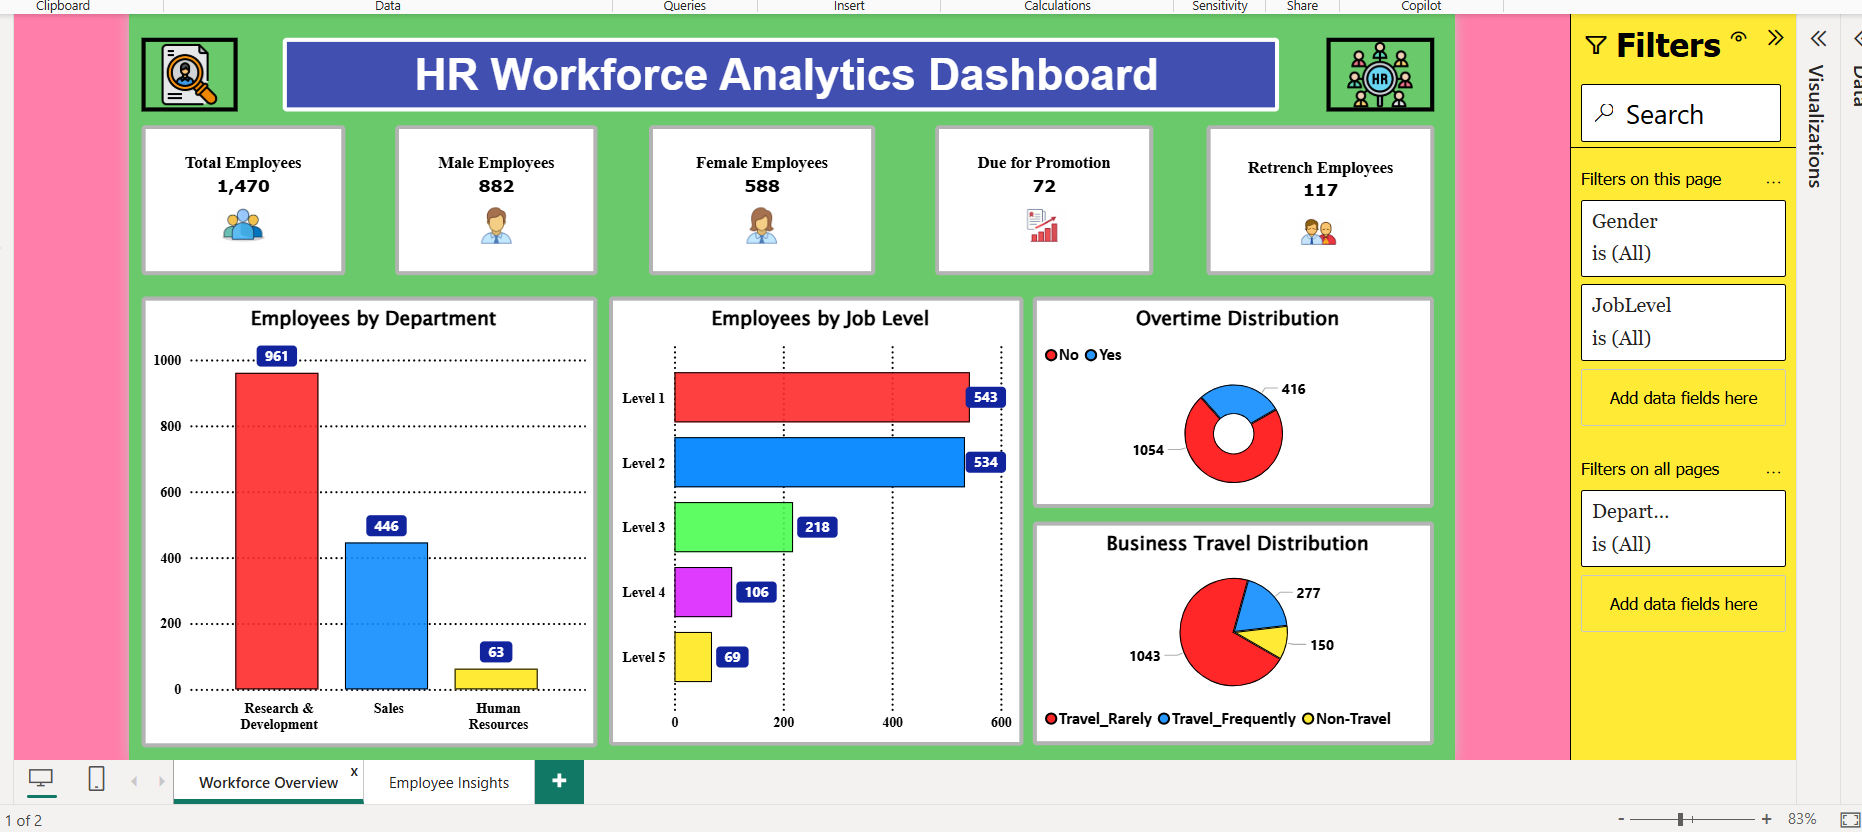

The page's visual inventory and layout, read from the dashboard file:
{"tool":"powerbi","page":{"name":"Workforce Overview","canvas":[1280,720],"ordinal":0},"visuals":[{"type":"textbox","box":[148.8,22.5,961.2,71.2],"z":0},{"type":"cardVisual","fields":{"Data":["CountNonNull(HR Analytics Data.EmployeeCount)"]},"box":[12.1,107.4,196.6,144.8],"z":1000},{"type":"cardVisual","fields":{"Data":["CountNonNull(HR Analytics Data.EmployeeCount)"]},"box":[257,107.4,195.4,144.8],"z":2000},{"type":"cardVisual","fields":{"Data":["CountNonNull(HR Analytics Data.EmployeeCount)"]},"box":[501.9,107.4,218.4,144.8],"z":3000},{"type":"cardVisual","fields":{"Data":["CountNonNull(HR Analytics Data.EmployeeCount)"]},"box":[778.8,107.5,210,145],"z":4000},{"type":"cardVisual","fields":{"Data":["CountNonNull(HR Analytics Data.EmployeeCount)"]},"box":[1040,107.5,220,145],"z":5000},{"type":"image","box":[12.5,22.5,92.5,71.2],"z":6000},{"type":"image","box":[1156.2,22.5,103.8,71.2],"z":7000},{"type":"columnChart","title":"Employees by Department","fields":{"Category":["HR Analytics Data.Department"],"Y":["CountNonNull(HR Analytics Data.EmployeeNumber)"]},"box":[12.5,272.5,440,435],"z":8000},{"type":"barChart","title":"Employees by Job Level","fields":{"Category":["HR Analytics Data.Job Levels"],"Y":["CountNonNull(HR Analytics Data.EmployeeNumber)"]},"box":[463.8,272.5,400,433.8],"z":9000},{"type":"pieChart","title":"Business Travel Distribution","fields":{"Category":["HR Analytics Data.BusinessTravel"],"Y":["CountNonNull(HR Analytics Data.EmployeeCount)"]},"box":[872.5,490,387.5,216.2],"z":10000},{"type":"donutChart","title":"Overtime Distribution","fields":{"Category":["HR Analytics Data.OverTime"],"Y":["CountNonNull(HR Analytics Data.EmployeeCount)"]},"box":[872.5,272.5,387.5,203.8],"z":11000}]}

Visuals, with their boxes on the page's 1280x720 design canvas (x1, y1, x2, y2). These are canvas units, not pixel positions in the 1862x832 screenshot, which may show the page scaled, cropped or inside an application window:
textbox: box=[149, 22, 1110, 94]
cardVisual - CountNonNull(HR Analytics Data.EmployeeCount): box=[12, 107, 209, 252]
cardVisual - CountNonNull(HR Analytics Data.EmployeeCount): box=[257, 107, 452, 252]
cardVisual - CountNonNull(HR Analytics Data.EmployeeCount): box=[502, 107, 720, 252]
cardVisual - CountNonNull(HR Analytics Data.EmployeeCount): box=[779, 108, 989, 252]
cardVisual - CountNonNull(HR Analytics Data.EmployeeCount): box=[1040, 108, 1260, 252]
image: box=[12, 22, 105, 94]
image: box=[1156, 22, 1260, 94]
"Employees by Department" columnChart: box=[12, 272, 452, 708]
"Employees by Job Level" barChart: box=[464, 272, 864, 706]
"Business Travel Distribution" pieChart: box=[872, 490, 1260, 706]
"Overtime Distribution" donutChart: box=[872, 272, 1260, 476]
